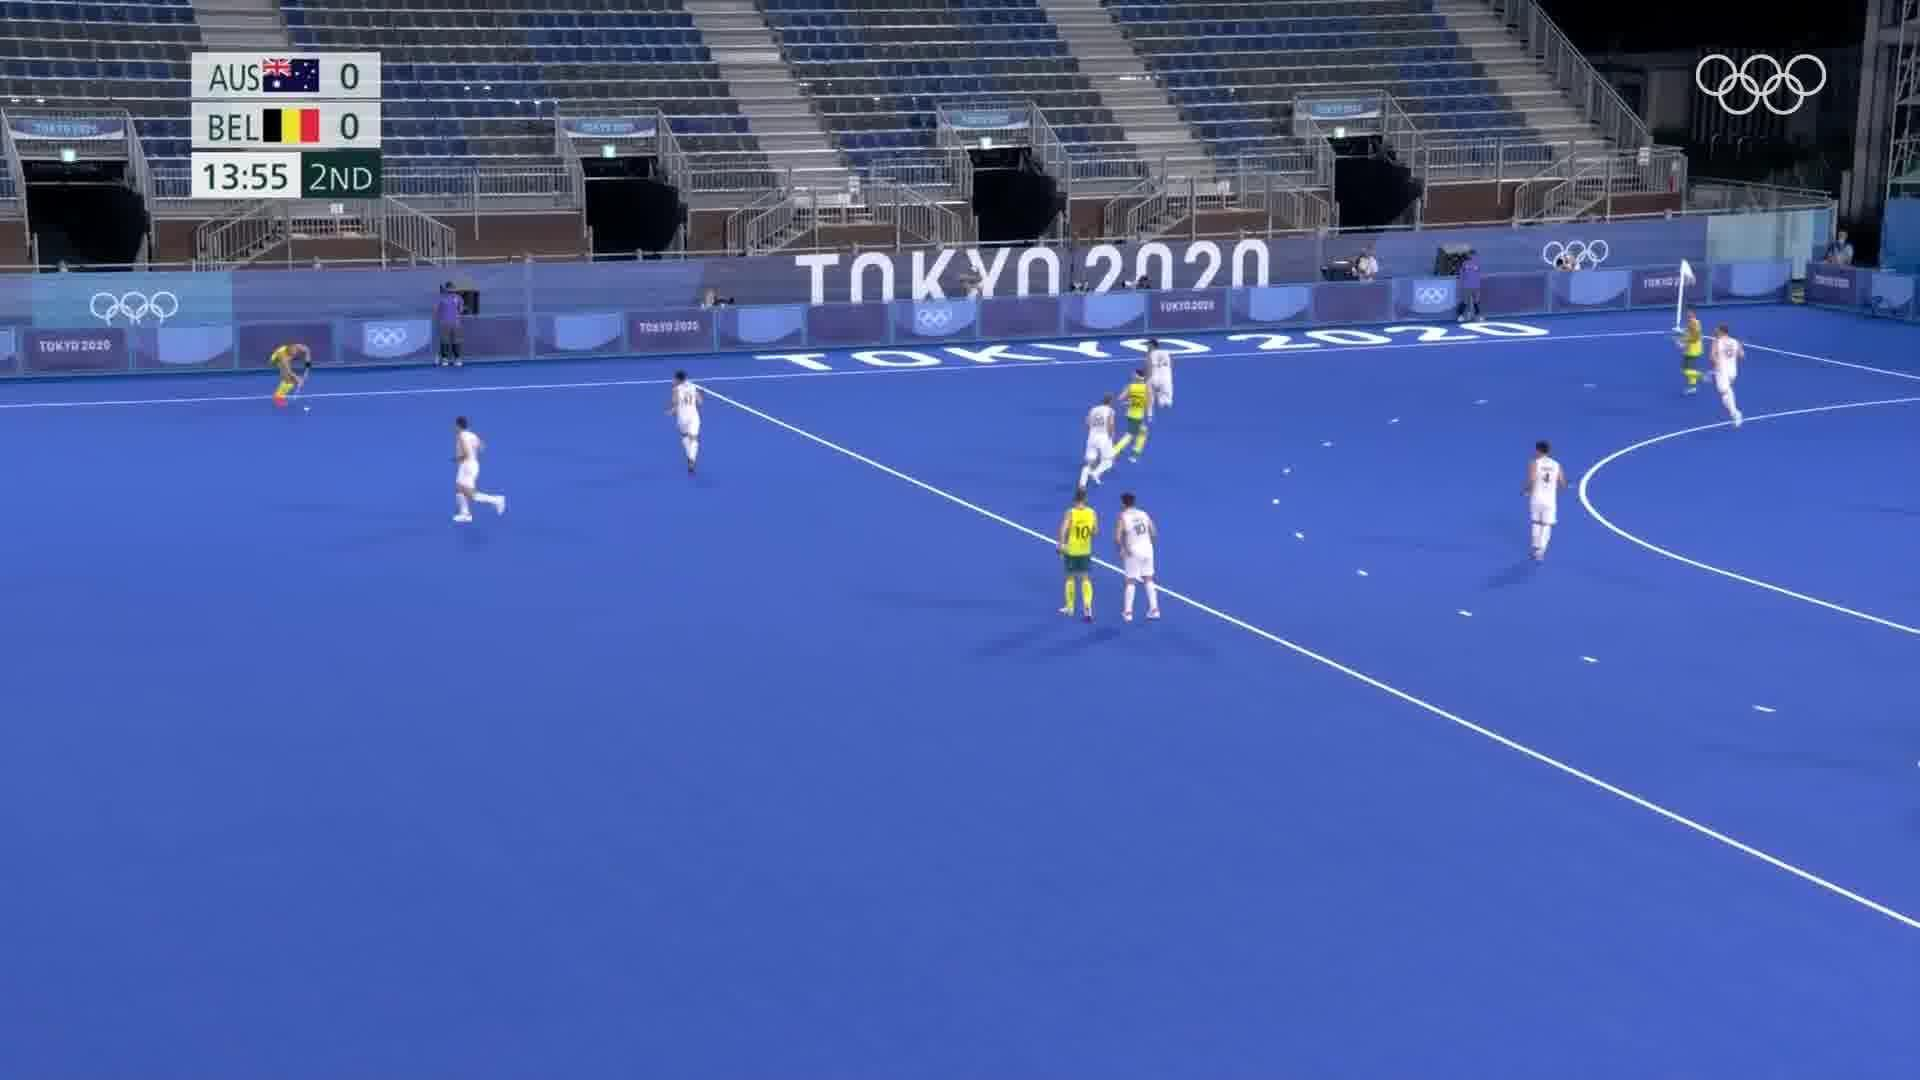ball: (301, 402, 313, 415)
